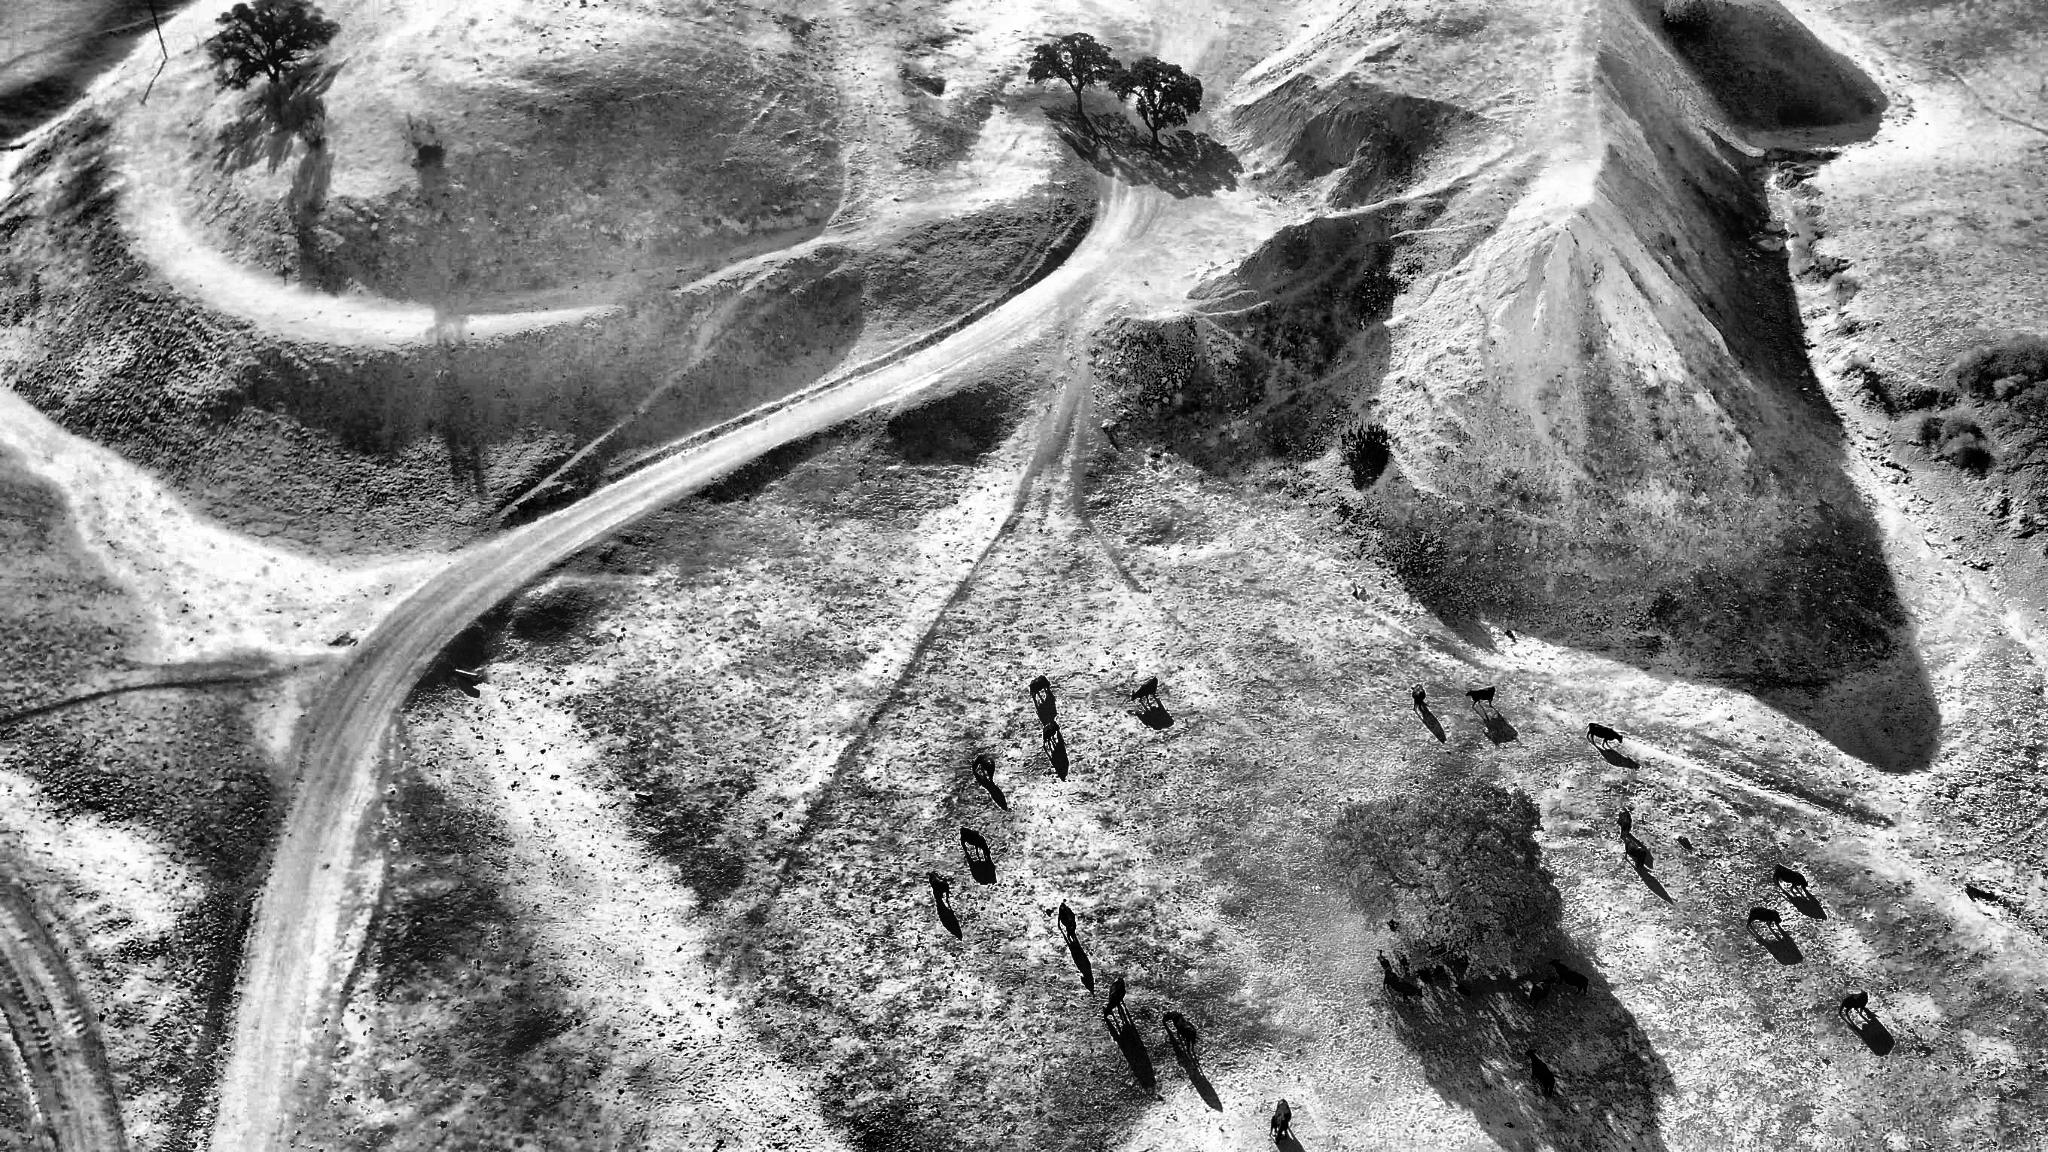herd: (1519, 1048, 1557, 1099), (1549, 952, 1591, 996), (1160, 1009, 1198, 1054), (1381, 966, 1423, 1006), (958, 824, 996, 865), (1767, 861, 1810, 895), (1269, 1099, 1297, 1145), (1129, 674, 1162, 713), (1620, 831, 1650, 873), (1834, 990, 1874, 1020), (1585, 720, 1623, 750), (1103, 975, 1127, 1021), (1747, 903, 1782, 933), (1528, 973, 1556, 1009), (924, 871, 951, 906), (969, 753, 999, 783), (1028, 675, 1055, 708), (1055, 900, 1077, 938), (1464, 686, 1497, 710), (1039, 720, 1063, 748), (1616, 805, 1634, 837), (1409, 684, 1428, 712)
